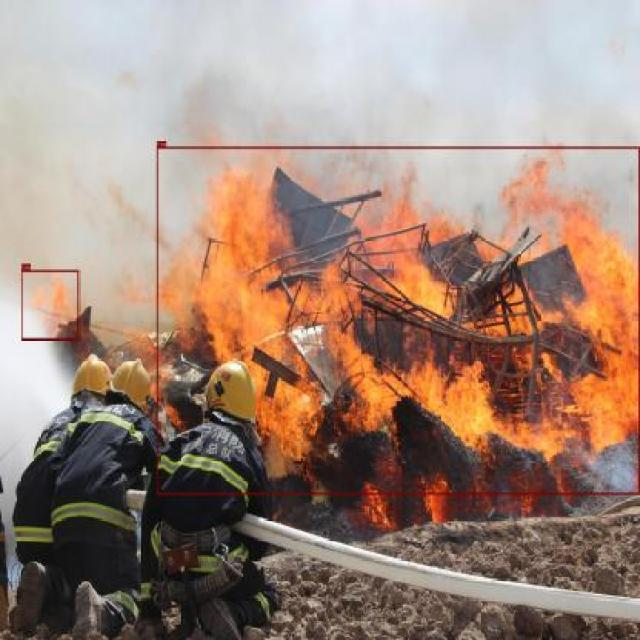fire: (156, 146, 639, 494), (20, 269, 80, 340)
